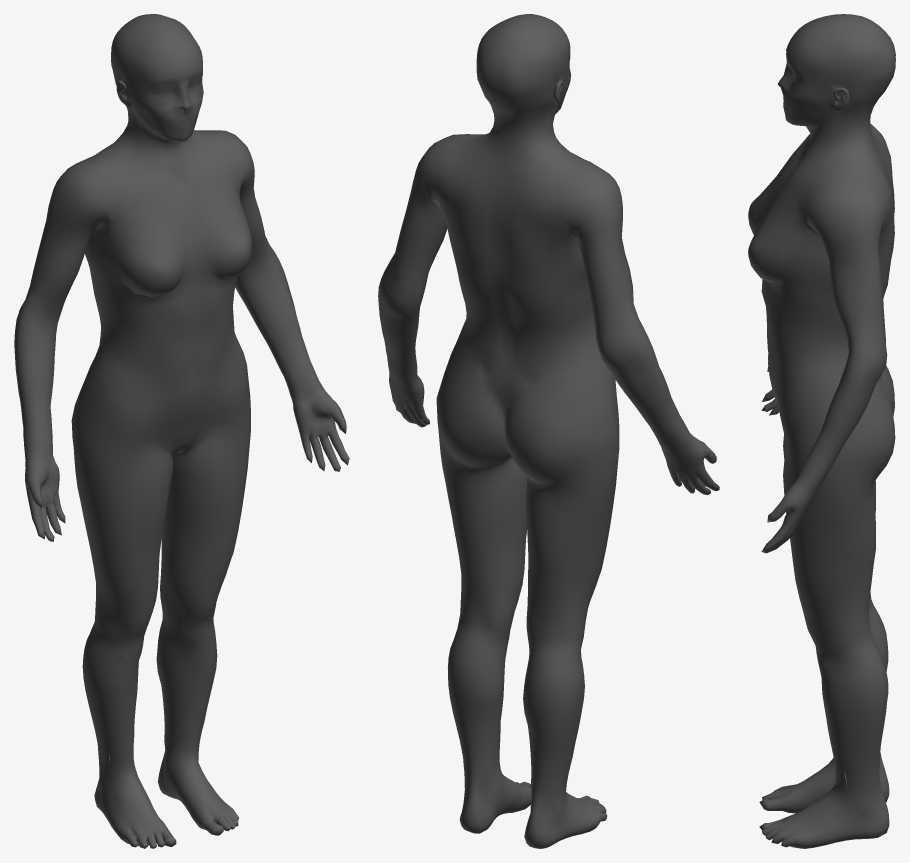
Rendered from Lop11_Hệ thần kinh_Tab1_Hệ thần kinh.glb.
The picture shows the model from 3 angles, left to right: view 1: azimuth 30°, elevation 25°; view 2: azimuth 150°, elevation 25°; view 3: azimuth 270°, elevation 25°; orthographic projection.
Parts seen in each view (by area): view 1: female_skin_1; view 2: female_skin_1; view 3: female_skin_1.
Boxes of the visible parts, left/top/right/bottom form: female_skin_1: left=14, top=14, right=349, bottom=848; female_skin_1: left=378, top=14, right=719, bottom=848; female_skin_1: left=748, top=14, right=895, bottom=848.
Bounding box in the file's own units: 0.7371 × 1.8 × 0.2986.
2 materials, 1 textured.
